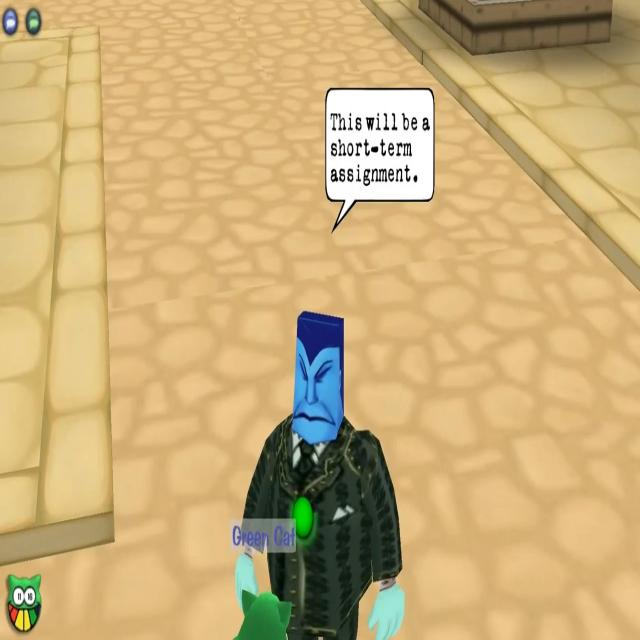shortchange: (240, 312, 402, 640)
